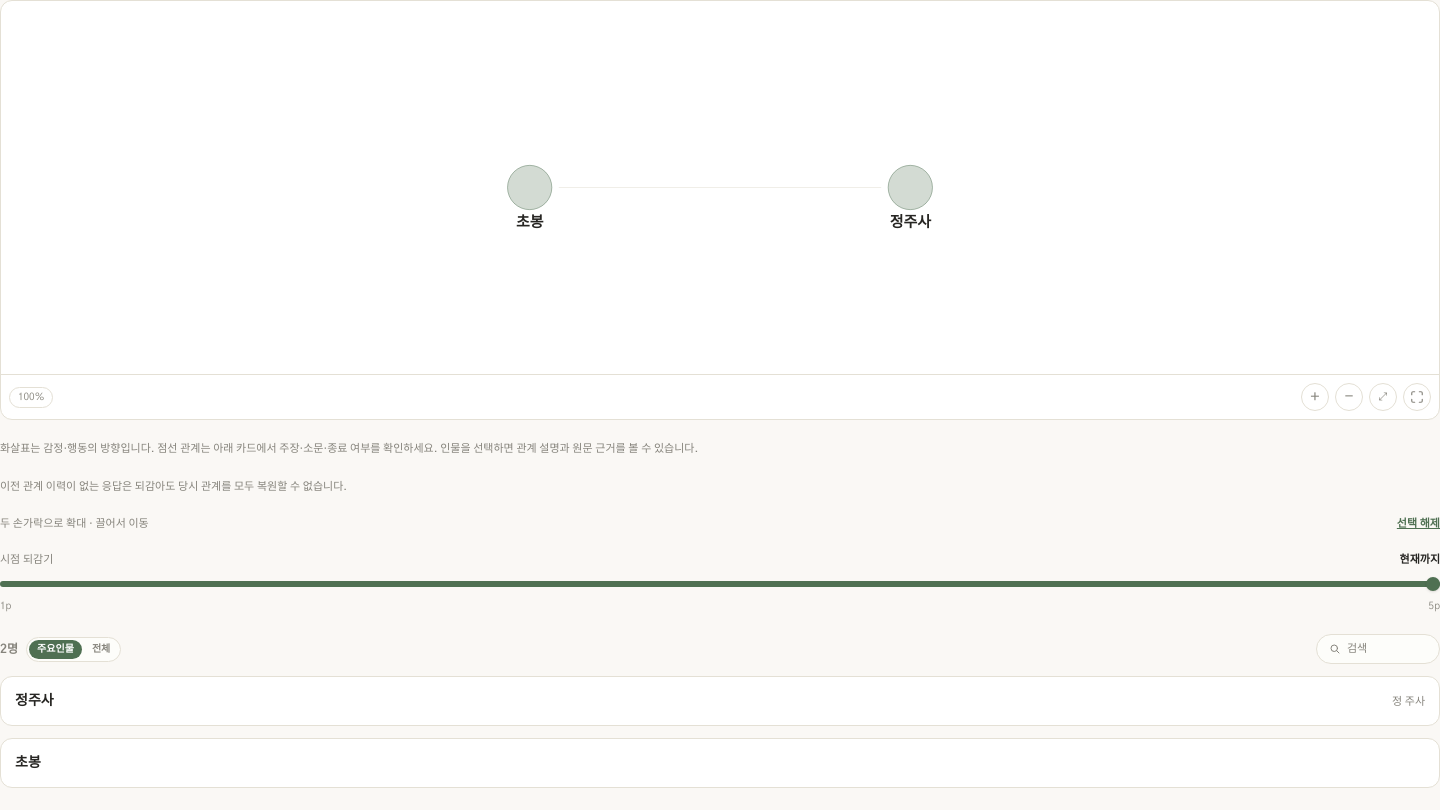
it: RelationshipTab › 전체화면 › 전체화면에서 같은 버튼을 다시 누르면 닫힌다
This screenshot has width=1440, height=810.
Click the button named "전체화면". click: (1417, 397)
box: [1403, 383, 1431, 411]
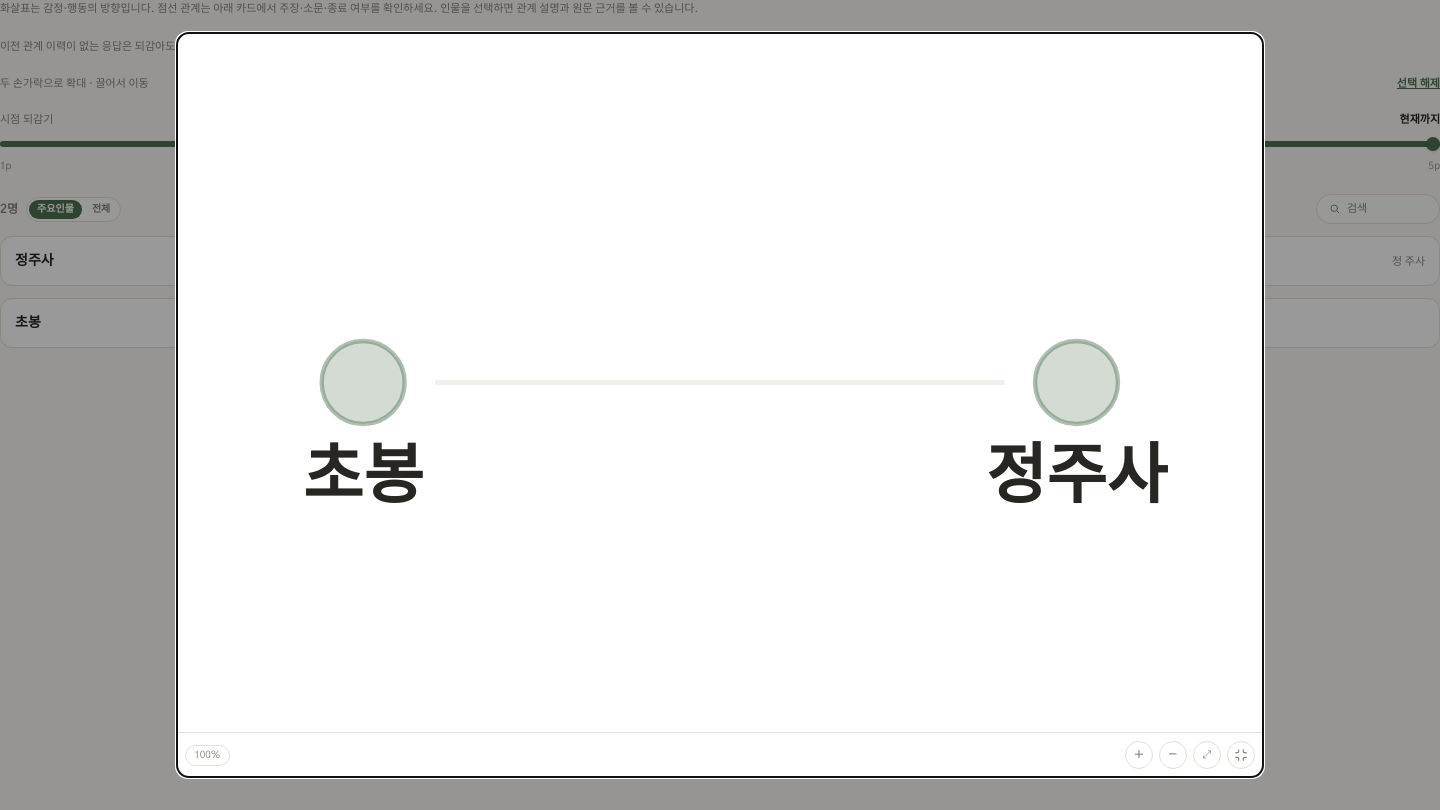
Click the button named "전체화면 종료". click: (1241, 755)
box: [1227, 741, 1255, 769]
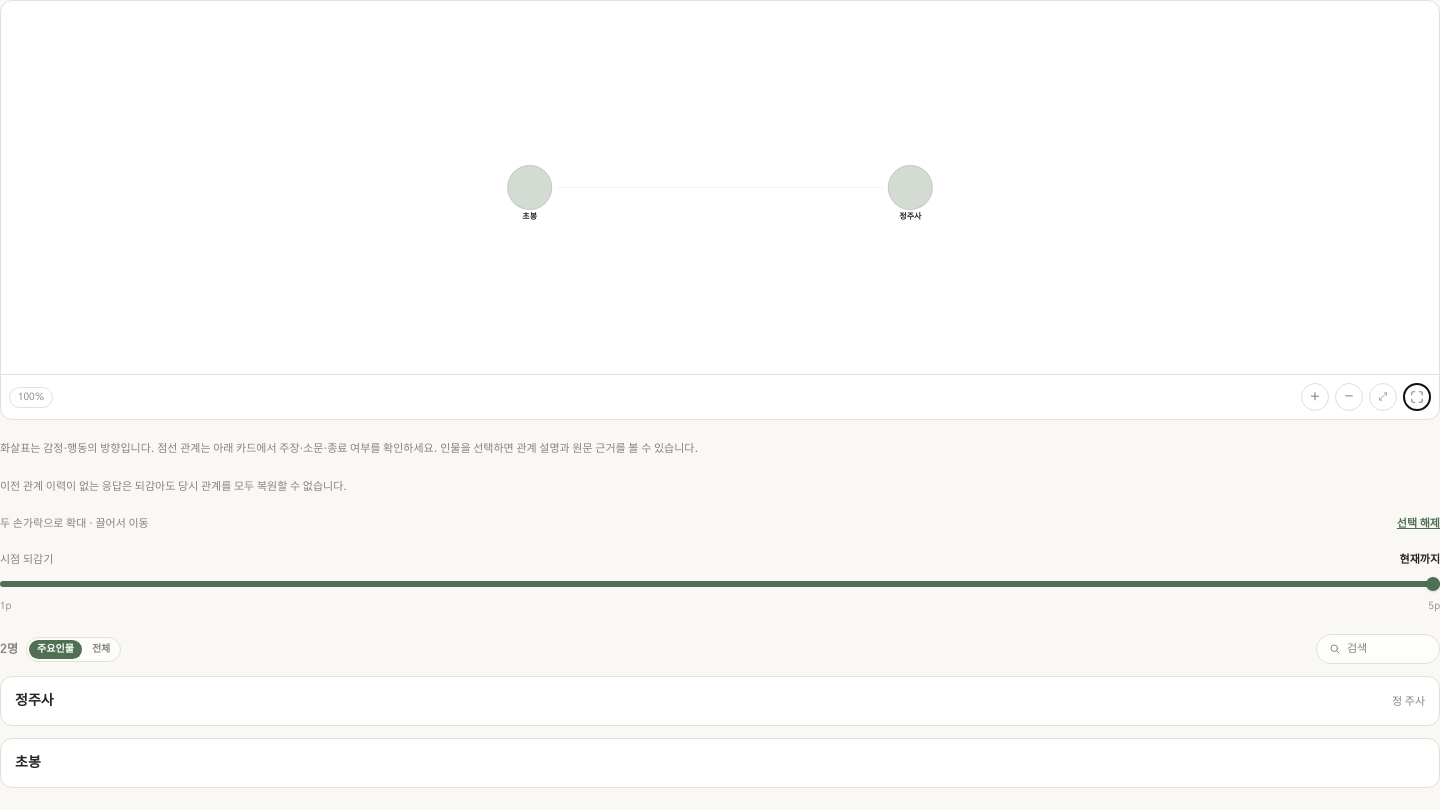
Check: the element with test id "relationship-graph-fullscreen-overlay" is gone
